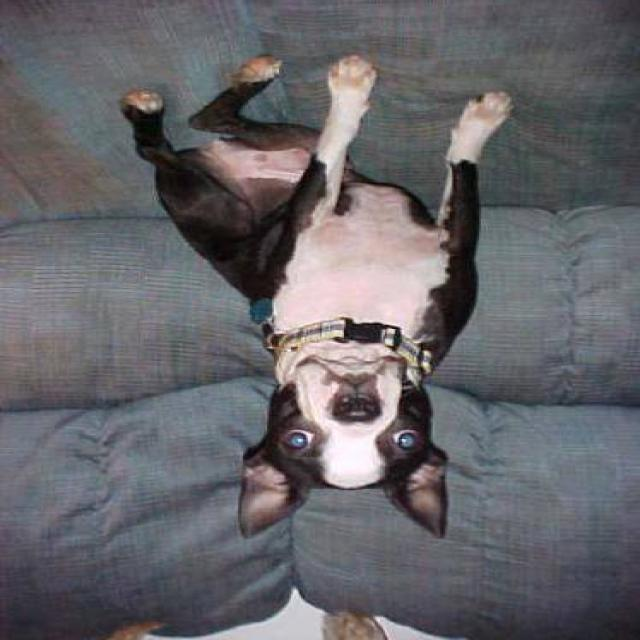dog: (94, 47, 570, 555)
